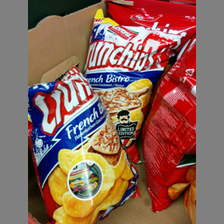chips: (28, 72, 138, 224), (83, 10, 175, 157), (141, 43, 197, 210)
